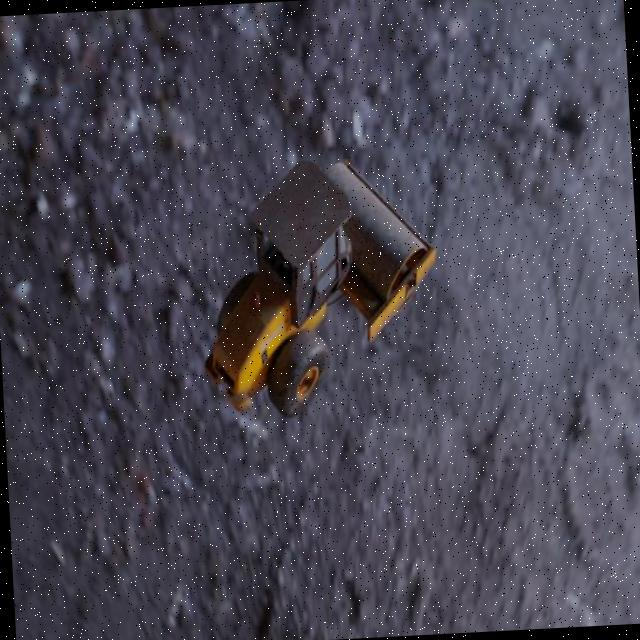Roller: (194, 152, 444, 422)
